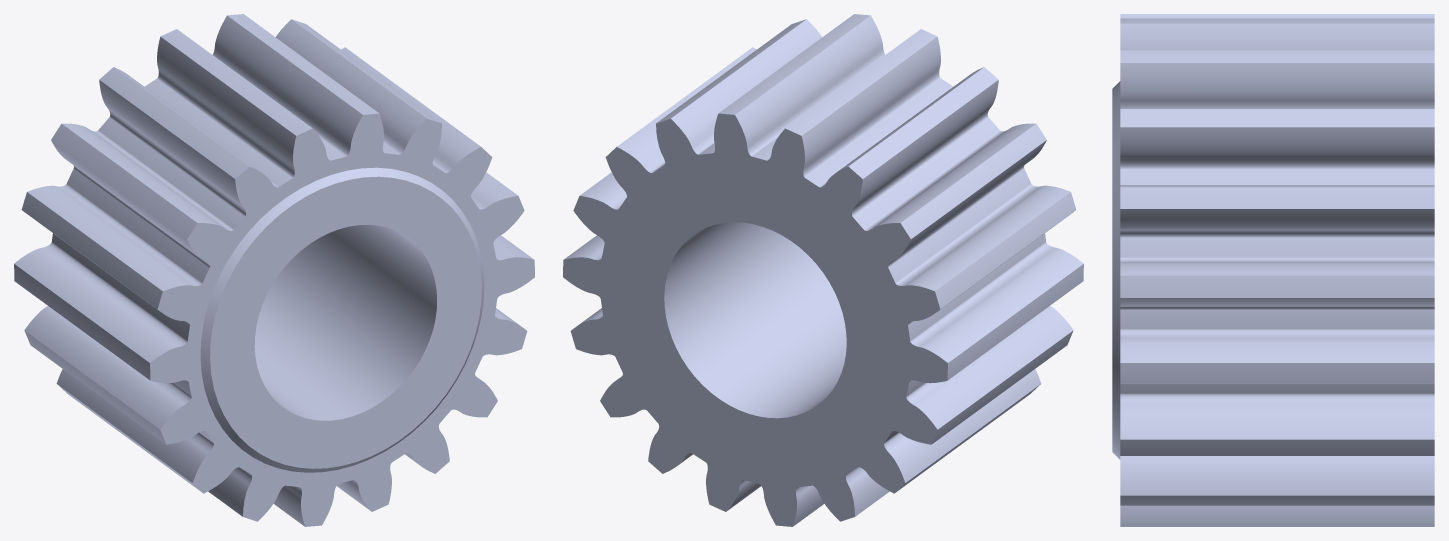
The model's file is REV_21_2101_P05_8_solid1.obj.
The picture shows the model from 3 angles, left to right: view 1: azimuth 30°, elevation 25°; view 2: azimuth 150°, elevation 25°; view 3: azimuth 270°, elevation 25°; orthographic projection. The views are drawn at different scales.
Visible parts, largest first — view 1: mesh24166, mesh24163, mesh24165, mesh24239, mesh24204, mesh24211, mesh24218, mesh24206, mesh24237, mesh24209, mesh24162, mesh24216 (+20 smaller); view 2: mesh24167, mesh24165, mesh24239, mesh24204, mesh24211, mesh24218, mesh24206, mesh24237, mesh24209, mesh24216, mesh24183, mesh24182 (+17 smaller); view 3: mesh24229, mesh24236, mesh24232, mesh24225, mesh24231, mesh24234, mesh24238, mesh24171, mesh24169, mesh24227, mesh24170, mesh24199 (+16 smaller).
Boxes of the visible parts, x1,y1,x2,y2 form: mesh24166: (150, 113, 534, 526); mesh24163: (210, 176, 481, 468); mesh24165: (254, 228, 436, 420); mesh24239: (212, 15, 362, 156); mesh24204: (14, 241, 187, 362); mesh24211: (157, 36, 296, 177); mesh24218: (24, 306, 191, 429); mesh24206: (27, 184, 202, 291); mesh24237: (275, 19, 426, 154); mesh24209: (99, 80, 245, 216); mesh24162: (200, 167, 484, 359); mesh24216: (56, 369, 213, 482); mesh24167: (563, 113, 947, 526); mesh24165: (664, 226, 846, 418); mesh24239: (735, 15, 885, 156); mesh24204: (910, 241, 1083, 362); mesh24211: (801, 36, 940, 177); mesh24218: (906, 306, 1073, 429); mesh24206: (895, 184, 1070, 291); mesh24237: (671, 19, 822, 154); mesh24209: (852, 80, 998, 216); mesh24216: (884, 369, 1041, 482); mesh24183: (900, 123, 1046, 238); mesh24182: (848, 67, 998, 178); mesh24229: (1120, 393, 1434, 439); mesh24236: (1120, 63, 1434, 108); mesh24232: (1120, 127, 1434, 169); mesh24225: (1120, 456, 1434, 495); mesh24231: (1120, 328, 1434, 362); mesh24234: (1120, 209, 1434, 237); mesh24238: (1120, 23, 1434, 50); mesh24171: (1120, 275, 1434, 297); mesh24169: (1120, 187, 1434, 208); mesh24227: (1120, 505, 1434, 524); mesh24170: (1120, 109, 1434, 127); mesh24199: (1120, 310, 1434, 328).
Size of the model in its own units: 0.0127 by 0.0127 by 0.008.
